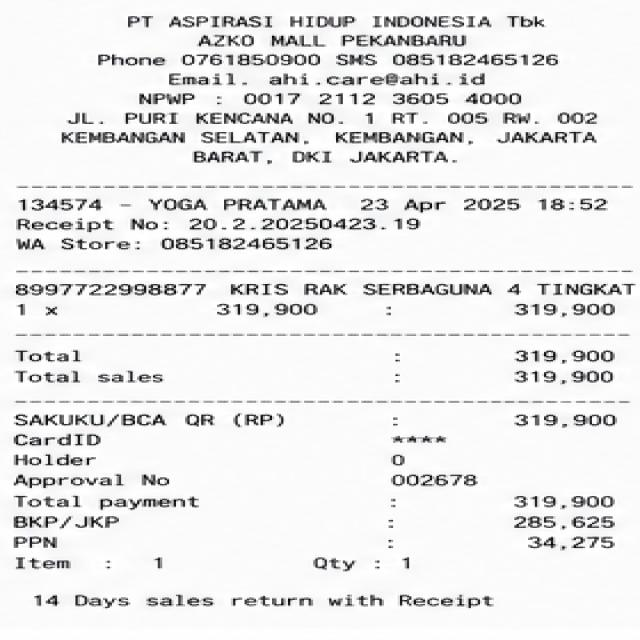date: (356, 192, 622, 215)
store: (118, 10, 561, 51)
total: (8, 492, 640, 512)
